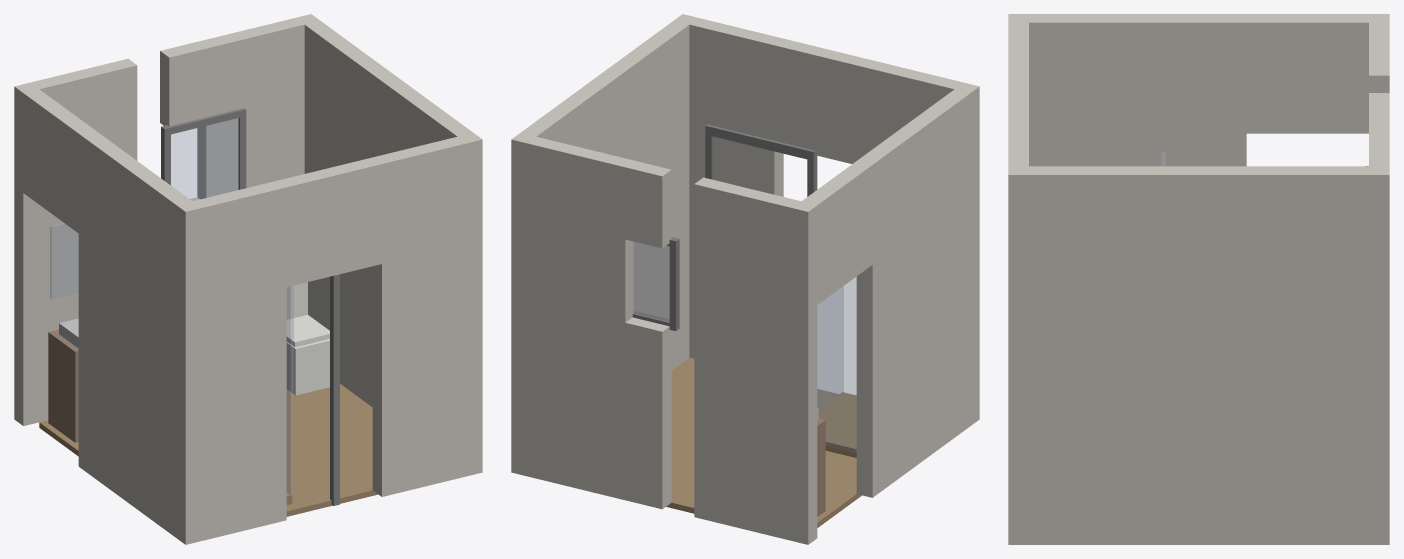
Rendered from bathroom.glb.
3 renders of one model, left to right at view 1: azimuth 30°, elevation 25°; view 2: azimuth 150°, elevation 25°; view 3: azimuth 270°, elevation 25°, orthographic. The views are drawn at different scales.
Parts seen in each view (by area): view 1: wsd_fw, wf_r, wf_l, wall_right, wb_r, wb_l, wf_t, floor, wsd_bk, wsd_tp, wb_top, glass (+9 smaller); view 2: wsd_fw, wb_l, wb_r, wall_right, wf_r, wb_bot, wf_t, wsd_bk, wsd_tp, wall_f, wb_top, floor (+7 smaller); view 3: wall_right, wsd_fw, wsd_tp, wb_l, wb_r, wf_t, wf_l, wf_r.
Boxes of the visible parts, bbox=[...] form: wsd_fw: bbox=[78, 129, 201, 544]; wf_r: bbox=[372, 136, 466, 496]; wf_l: bbox=[193, 180, 286, 540]; wall_right: bbox=[296, 14, 482, 476]; wb_r: bbox=[197, 18, 304, 199]; wb_l: bbox=[30, 58, 137, 422]; wf_t: bbox=[278, 157, 381, 286]; floor: bbox=[39, 384, 377, 516]; wsd_bk: bbox=[14, 82, 39, 425]; wsd_tp: bbox=[23, 89, 93, 232]; wb_top: bbox=[160, 41, 238, 126]; glass: bbox=[171, 118, 238, 200]; wsd_fw: bbox=[856, 82, 979, 497]; wb_l: bbox=[694, 177, 800, 540]; wb_r: bbox=[527, 136, 634, 499]; wall_right: bbox=[511, 14, 697, 476]; wf_r: bbox=[689, 18, 783, 358]; wb_bot: bbox=[593, 315, 671, 509]; wf_t: bbox=[774, 38, 878, 163]; wsd_bk: bbox=[792, 201, 817, 544]; wsd_tp: bbox=[802, 161, 872, 304]; wall_f: bbox=[817, 277, 856, 452]; wb_top: bbox=[593, 159, 671, 248]; floor: bbox=[666, 357, 861, 527]; wall_right: bbox=[1008, 166, 1389, 544]; wsd_fw: bbox=[1008, 14, 1246, 166]; wsd_tp: bbox=[1246, 14, 1368, 133]; wb_l: bbox=[1369, 22, 1389, 92]; wb_r: bbox=[1369, 113, 1389, 166]; wf_t: bbox=[1008, 68, 1028, 120]; wf_l: bbox=[1008, 22, 1028, 68]; wf_r: bbox=[1008, 120, 1028, 166].
Bounding box in the file's own units: 2.8 × 3.05 × 2.8.
